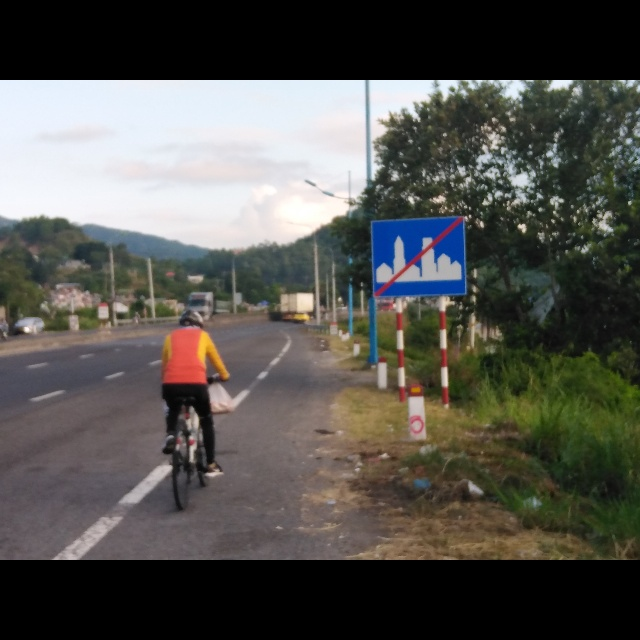Hết khu đông dân cư: (369, 215, 468, 299)
